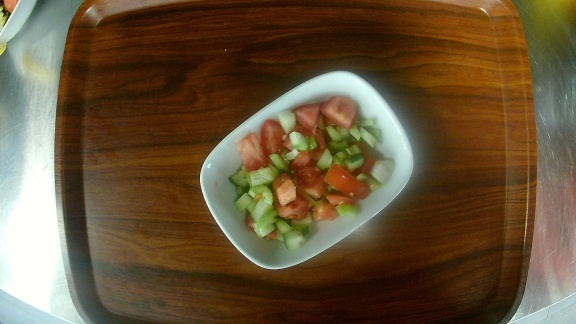cobansalata: (199, 69, 415, 269)
